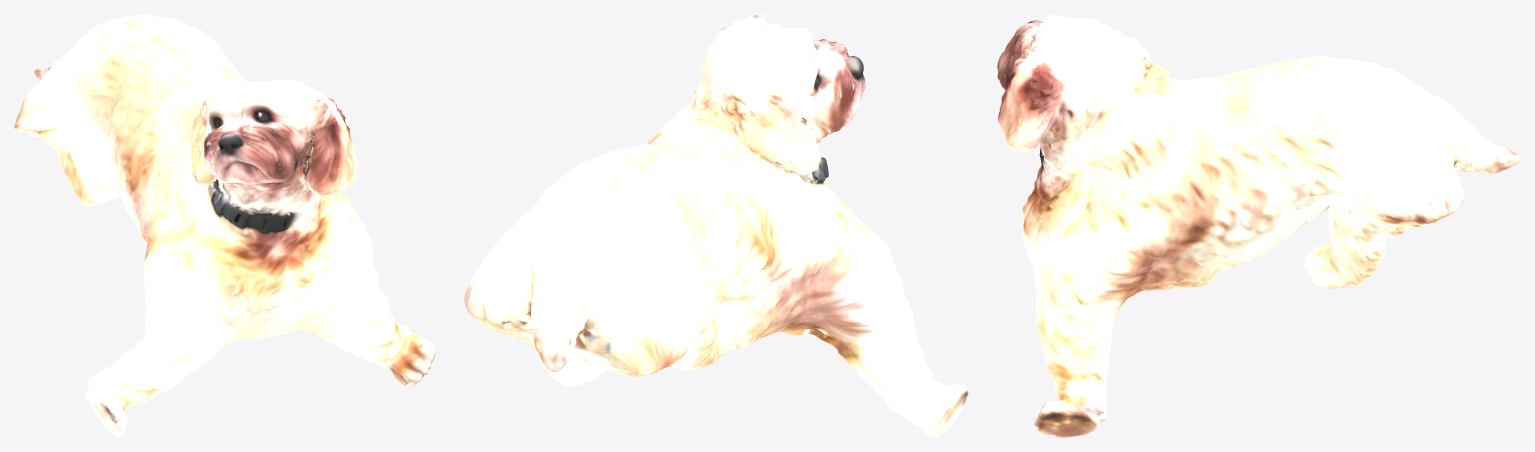
The model's file is sleep_pose.glb.
The picture shows the model from 3 angles, left to right: view 1: azimuth 30°, elevation 25°; view 2: azimuth 150°, elevation 25°; view 3: azimuth 270°, elevation 25°; orthographic projection. The views are drawn at different scales.
Visible parts, largest first — view 1: char1; view 2: char1; view 3: char1.
Boxes of the visible parts, x1,y1,x2,y2 form: char1: [14, 14, 435, 437]; char1: [464, 14, 968, 437]; char1: [997, 14, 1520, 437].
Size of the model in its own units: 0.00321 by 0.00309 by 0.00422.
Materials: 1 (1 with a texture image).
